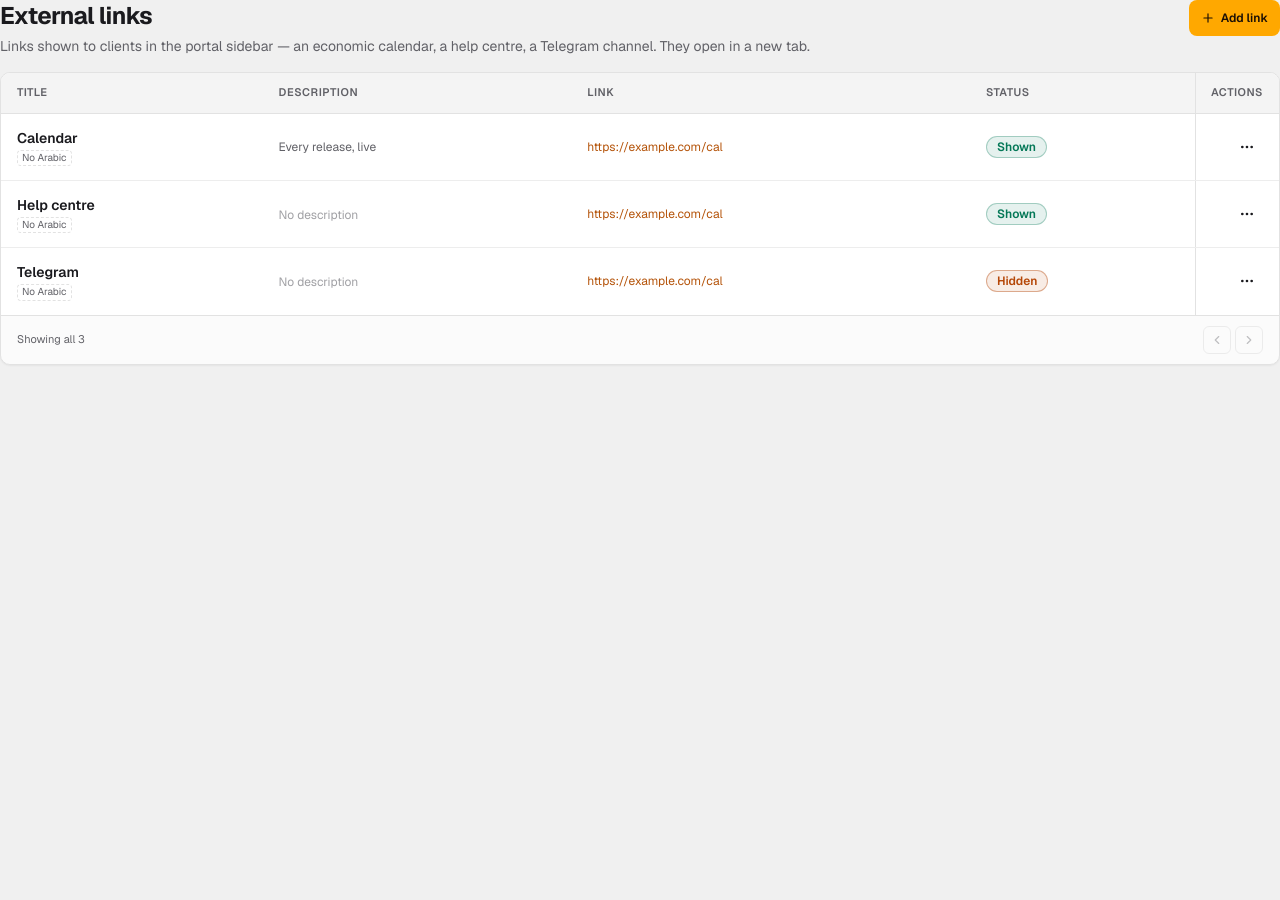
Test case: the form › keeps the API’s own refusal on screen
Expected: the text "Calendar" is shown, [17,129,78,147]
Click the button "Add link".
click(1234, 18)  # box [1189,0,1279,36]
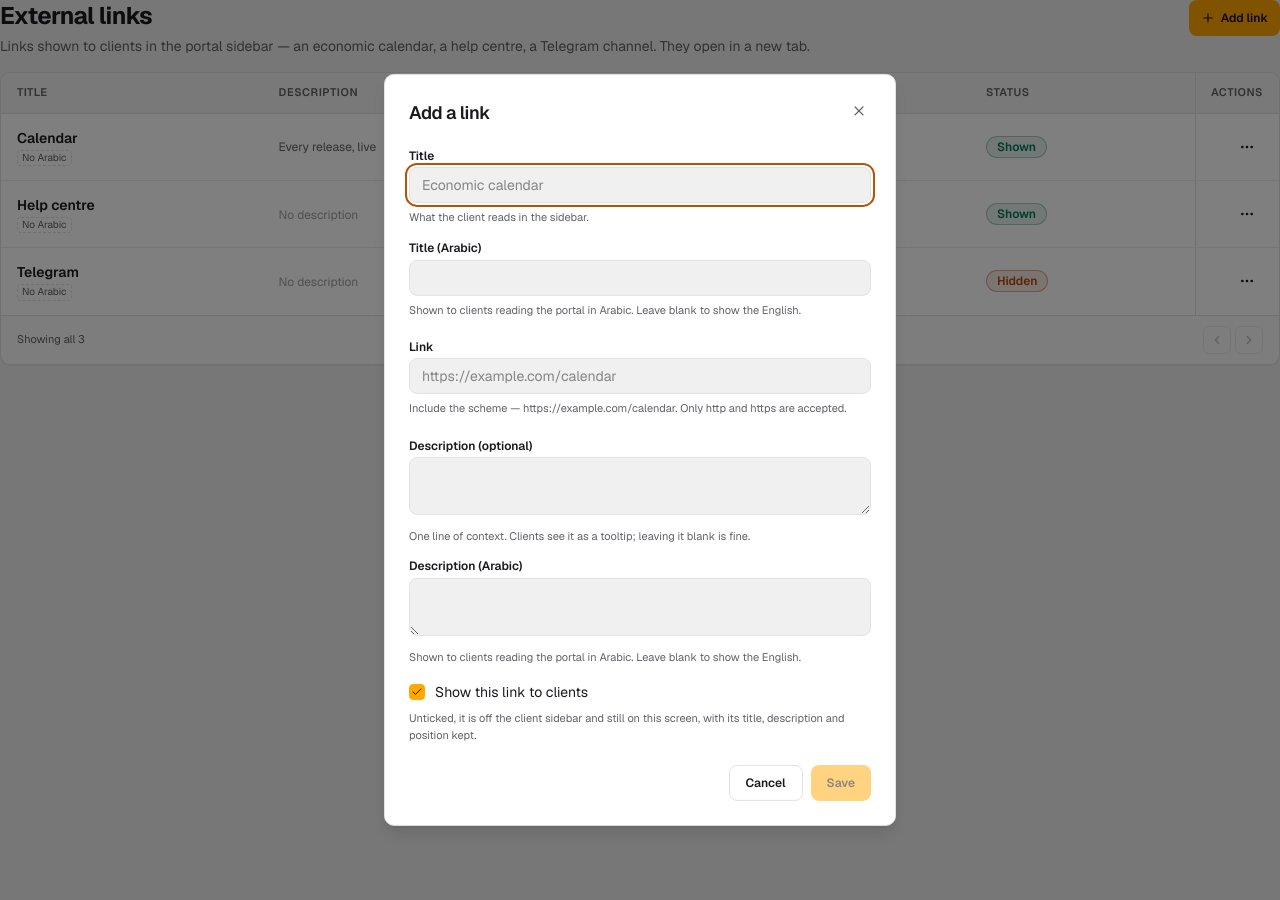
Type "Analysis" into the field labelled "Title".
click(640, 185); type("Analysis")  # box [409,167,871,203]
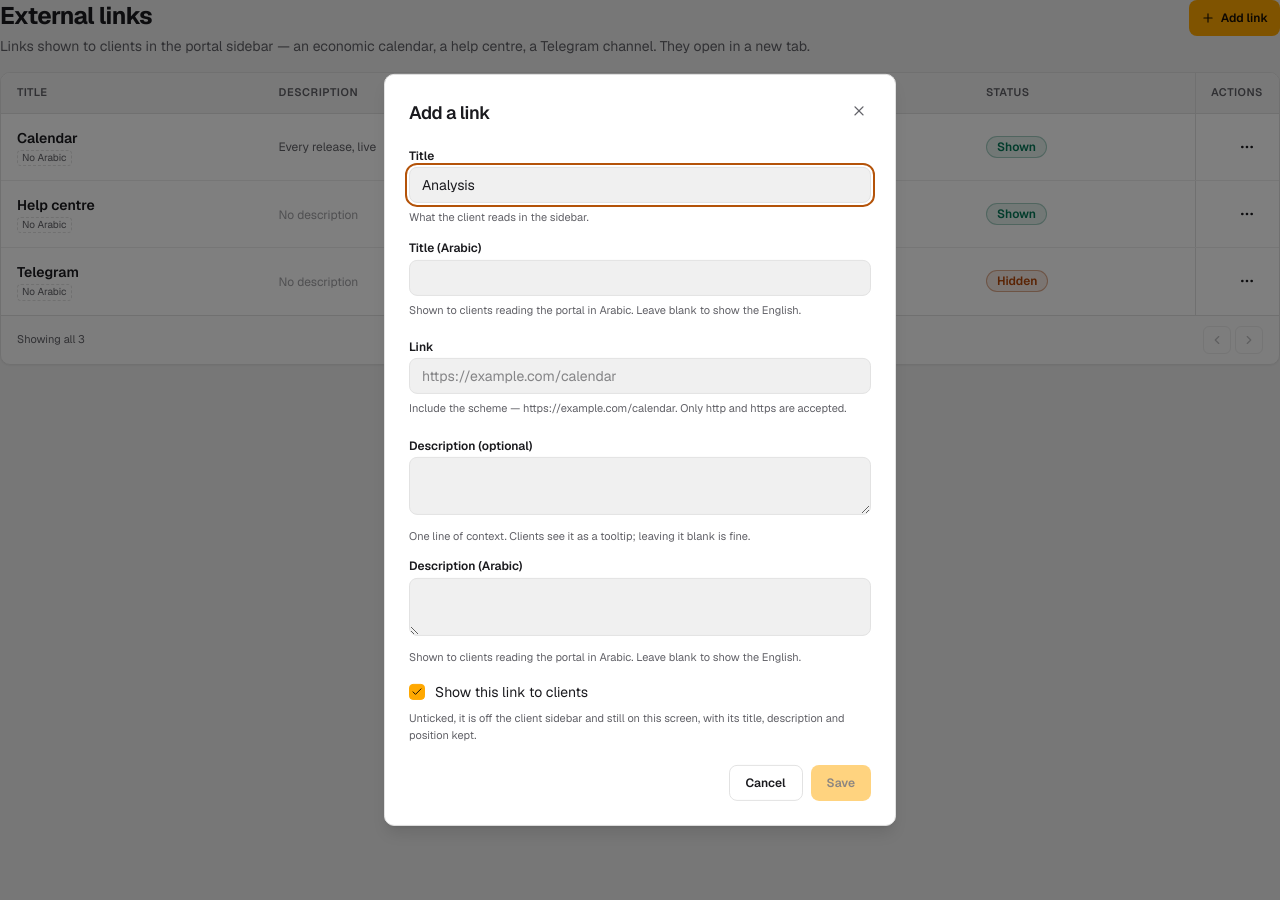
Type "https://example.com/analysis" into the field labelled "Link".
click(640, 376); type("https://example.com/analysis")  # box [409,358,871,394]
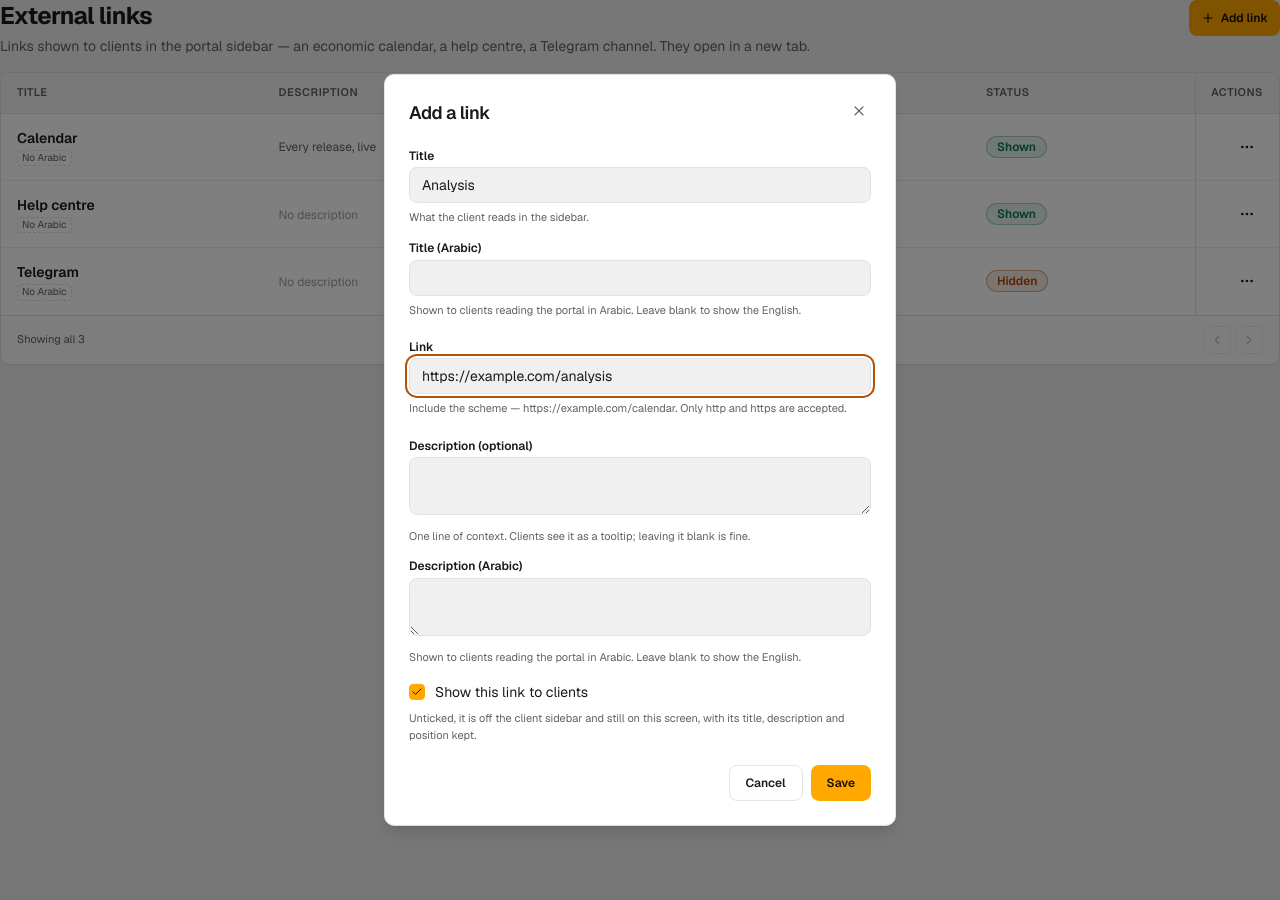
Click the button "Save".
click(841, 783)  # box [810,765,871,801]
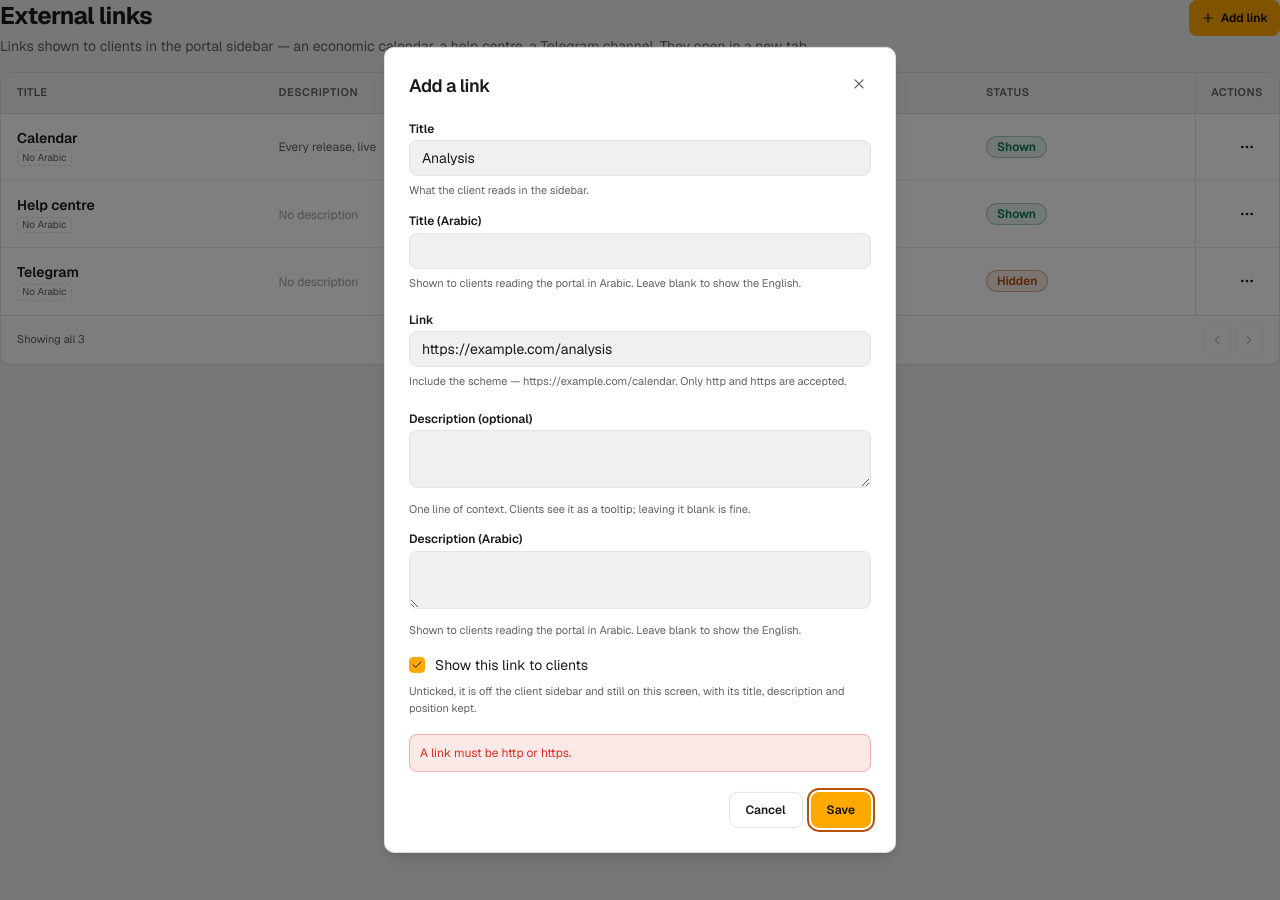
Expected: the text "A link must be http or https." is shown, [409,734,871,772]
